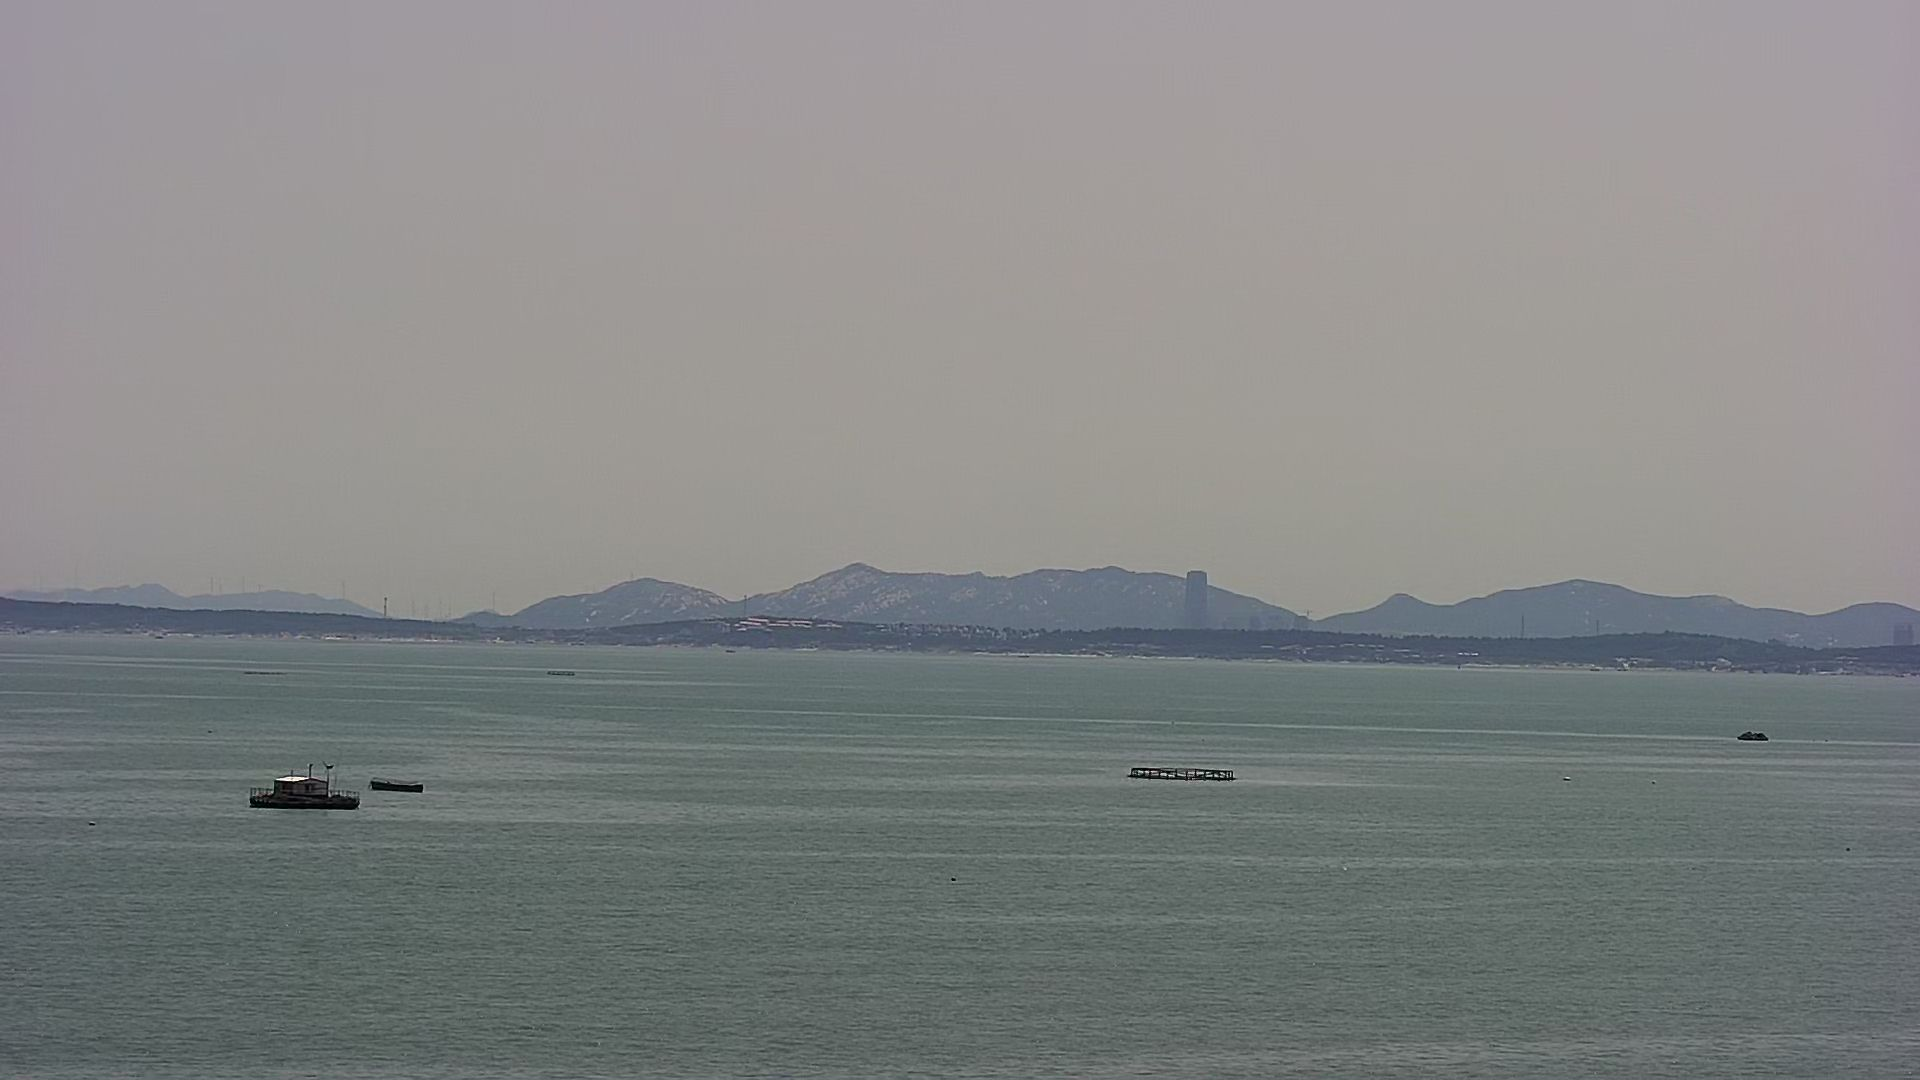boat: (371, 778, 429, 795)
platform: (249, 761, 359, 816), (1125, 764, 1240, 783)
rubbish: (1735, 727, 1771, 742)
